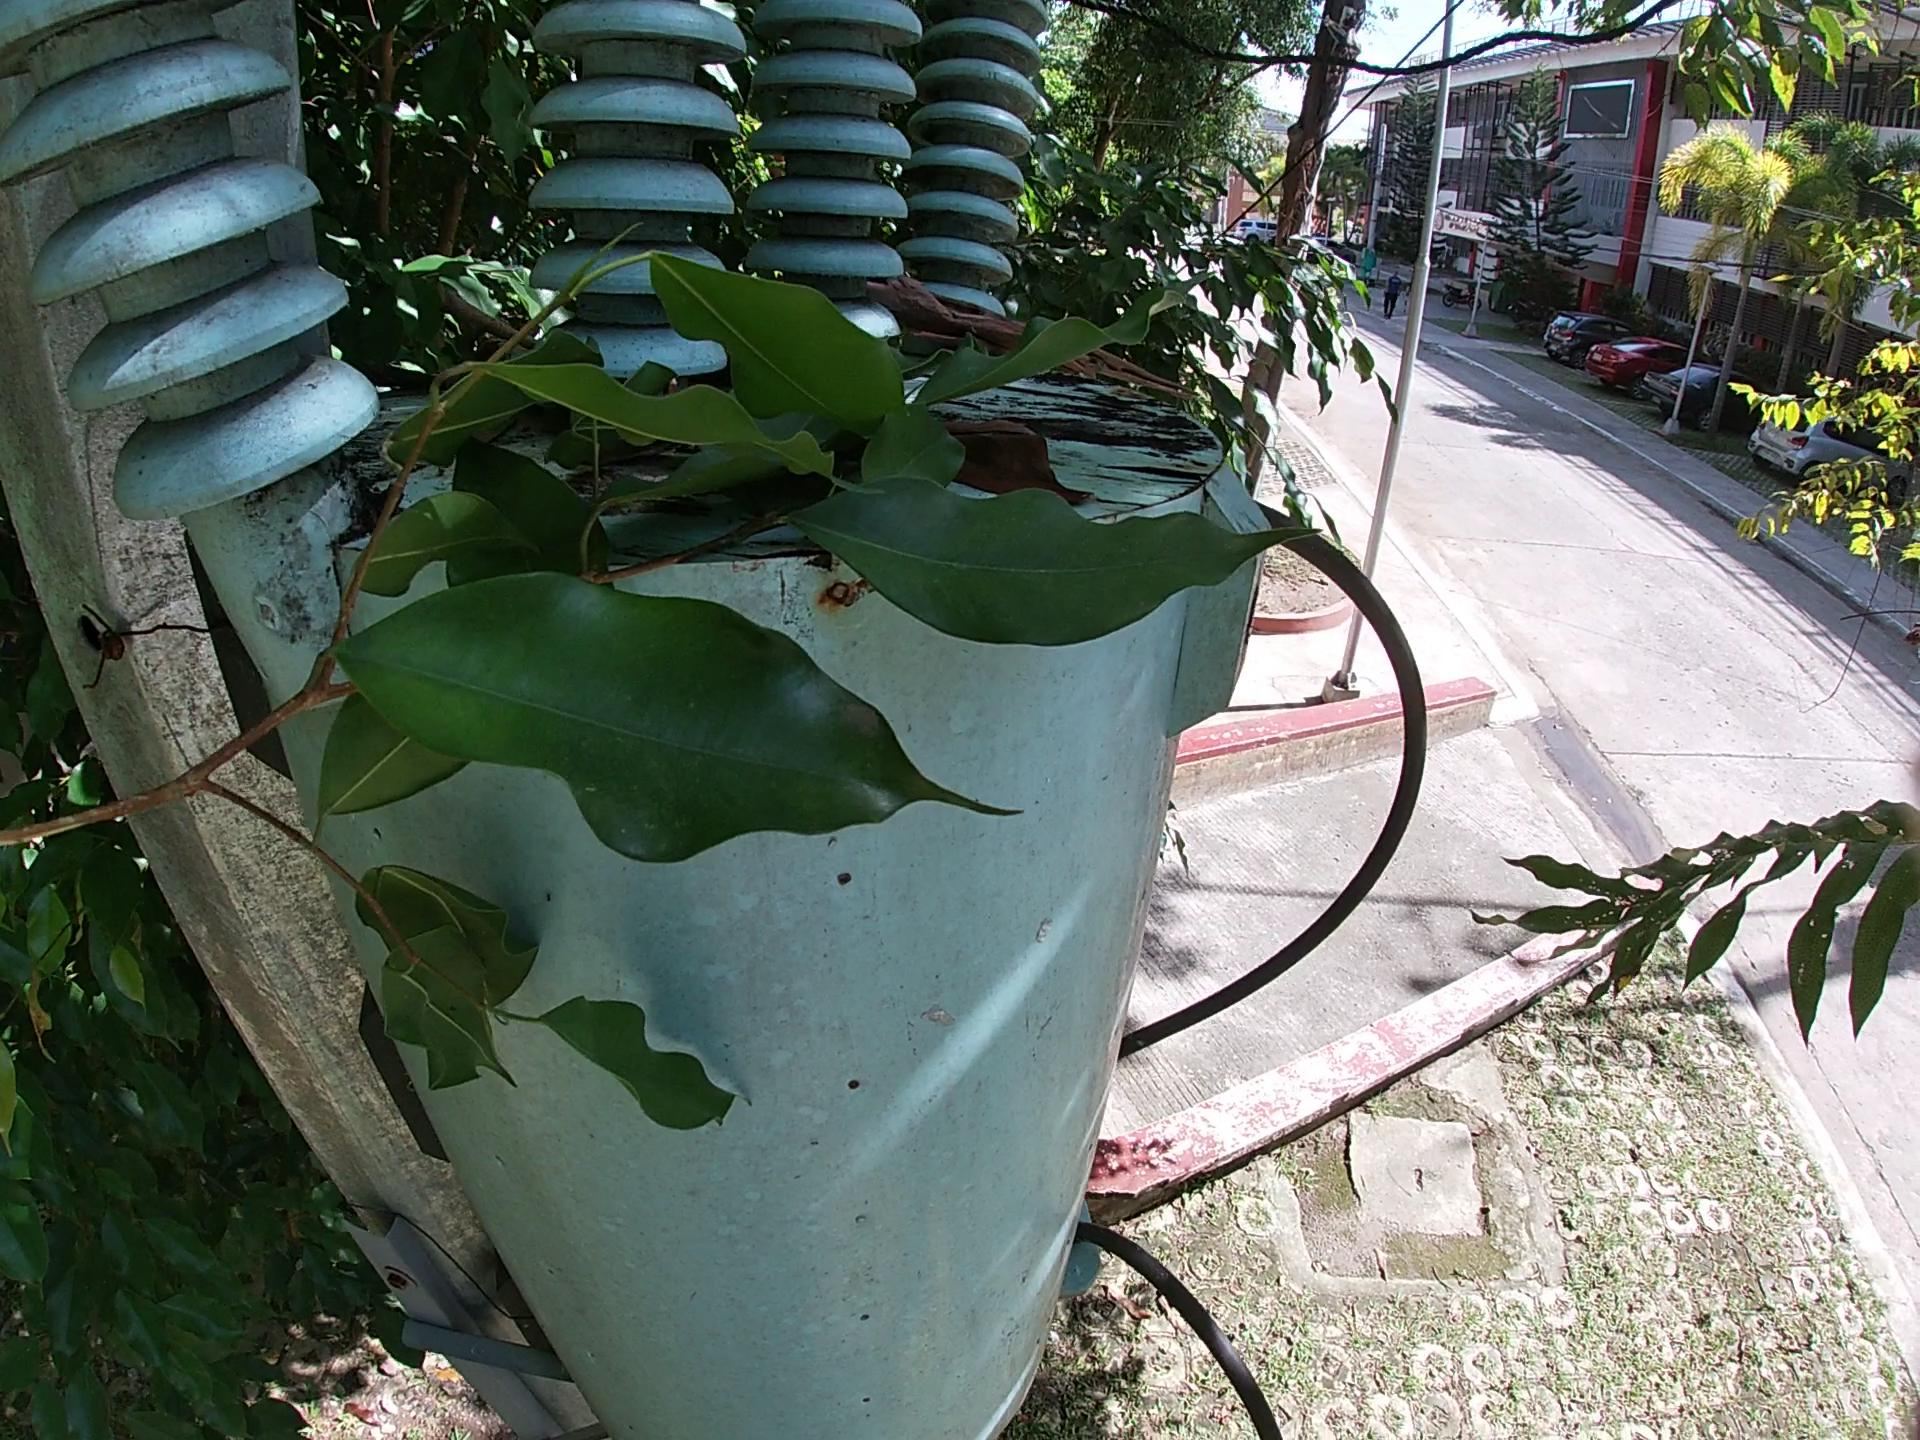branch with leaves: (2, 210, 1330, 1144)
leaf: (939, 431, 1105, 510)
tree branch: (866, 268, 1214, 410), (431, 274, 540, 345)
